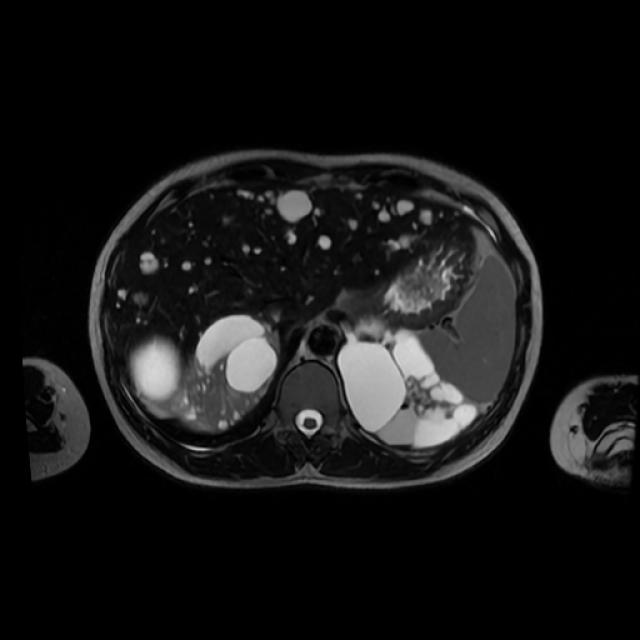sag: (134, 313, 280, 430)
sol: (340, 318, 477, 446)
